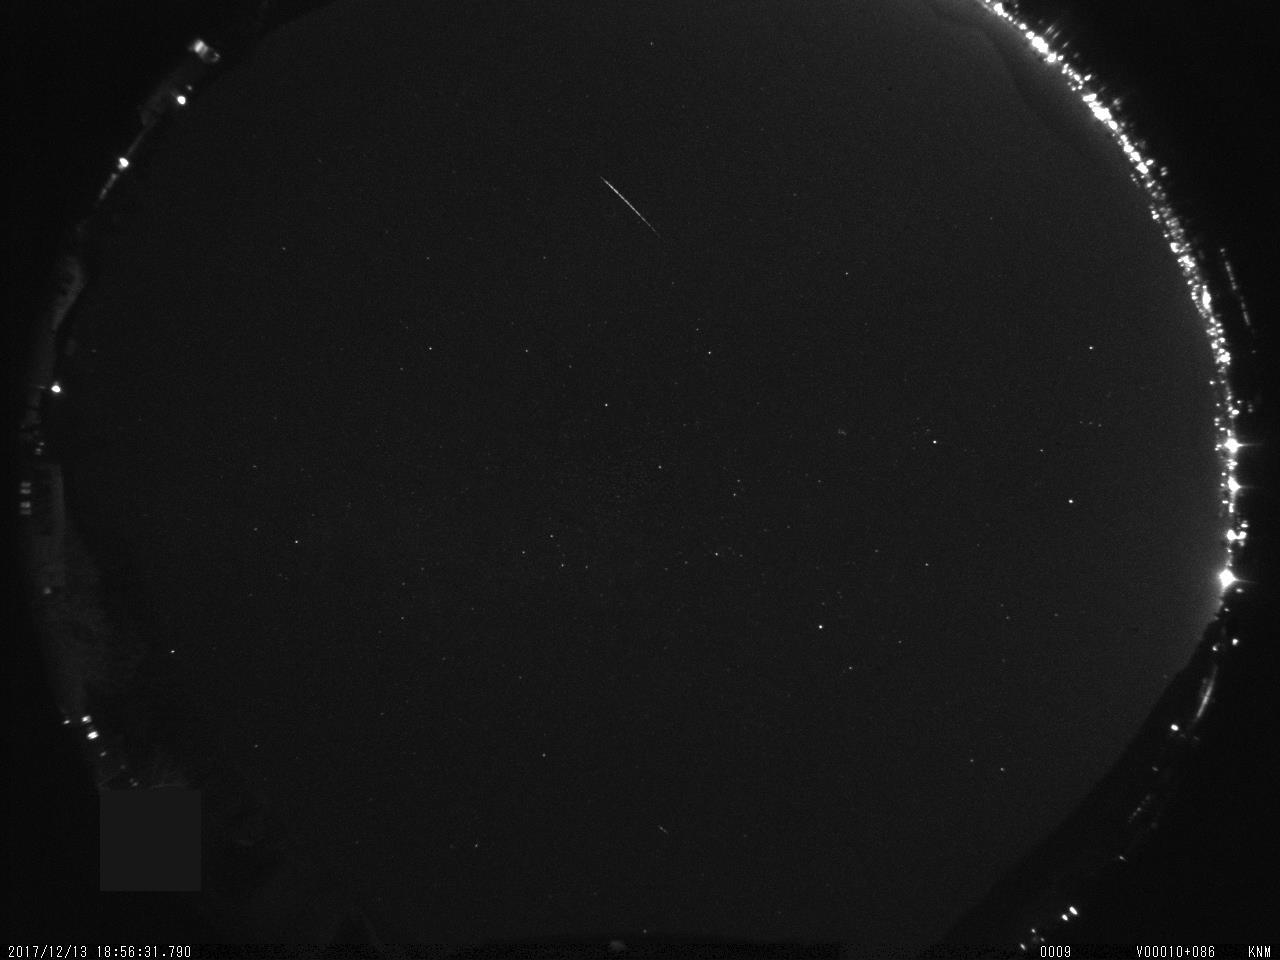meteor: (584, 167, 666, 242)
